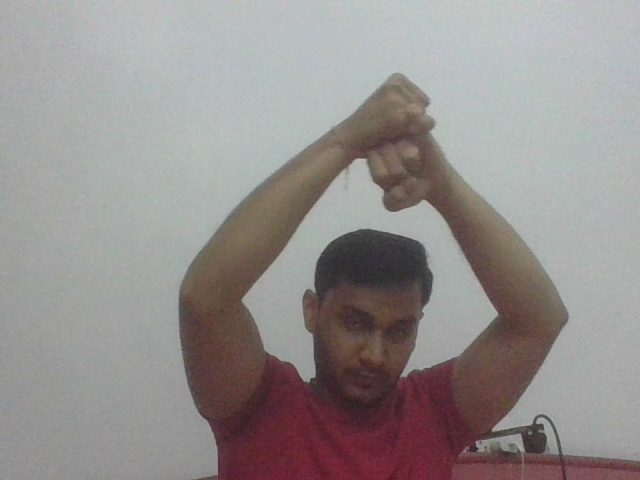S: (360, 70, 449, 214)
